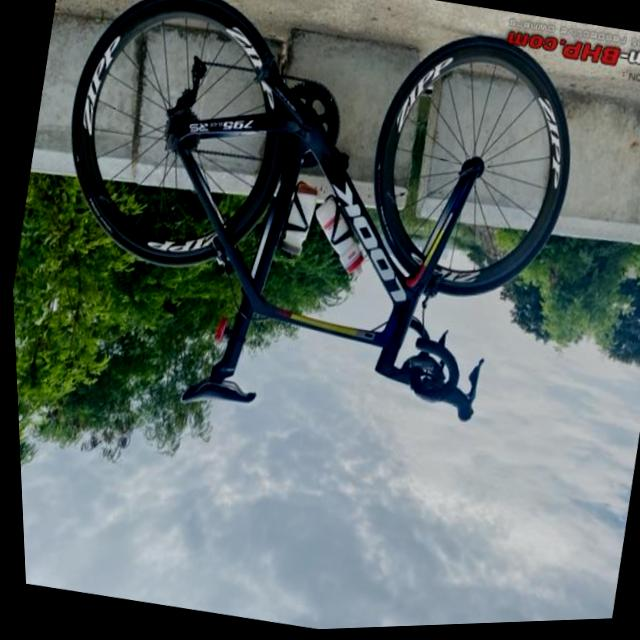road-bike: (10, 0, 605, 480)
